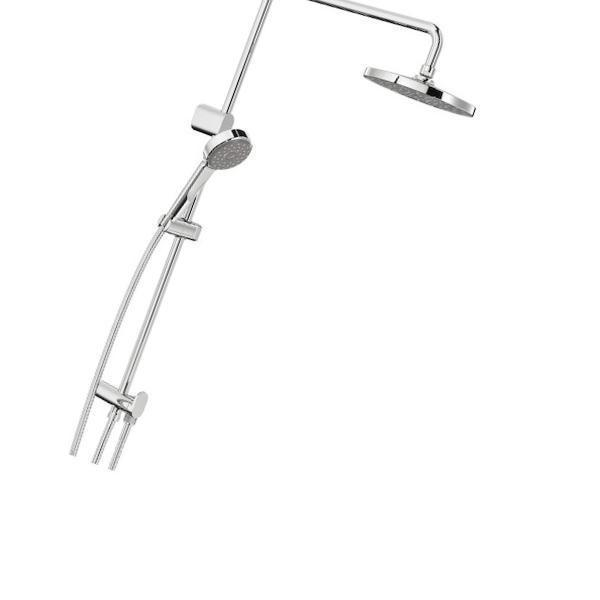Ducha: (65, 0, 506, 474)
